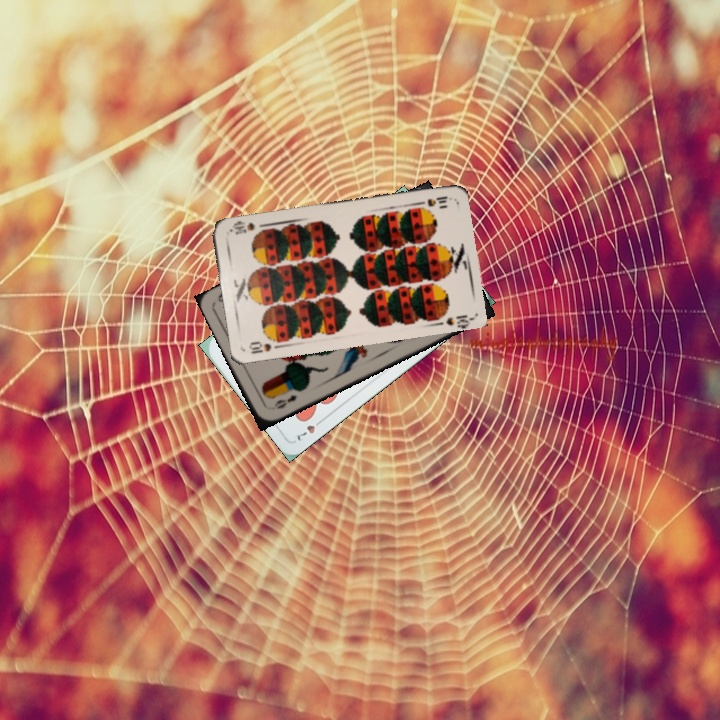EO: (270, 391, 300, 412)
H7: (293, 414, 326, 443)
S10: (245, 335, 285, 356), (412, 192, 453, 209)
